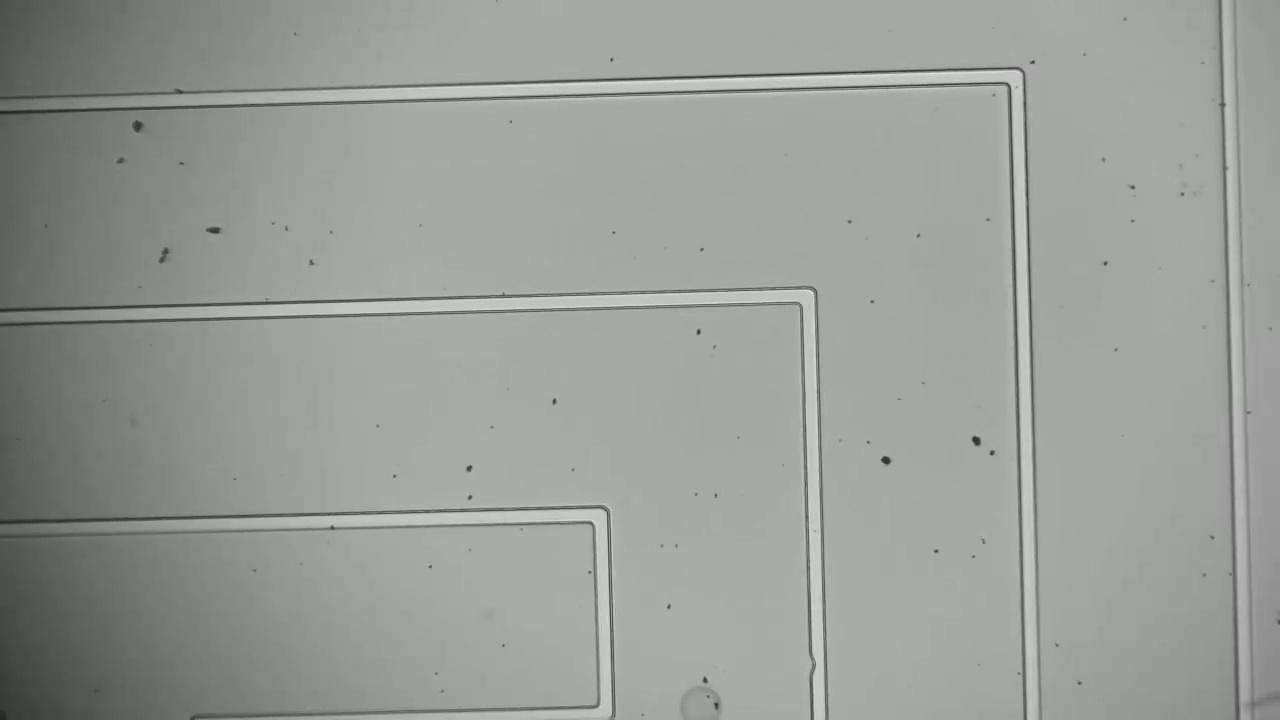edge_bite: (800, 646, 833, 684)
